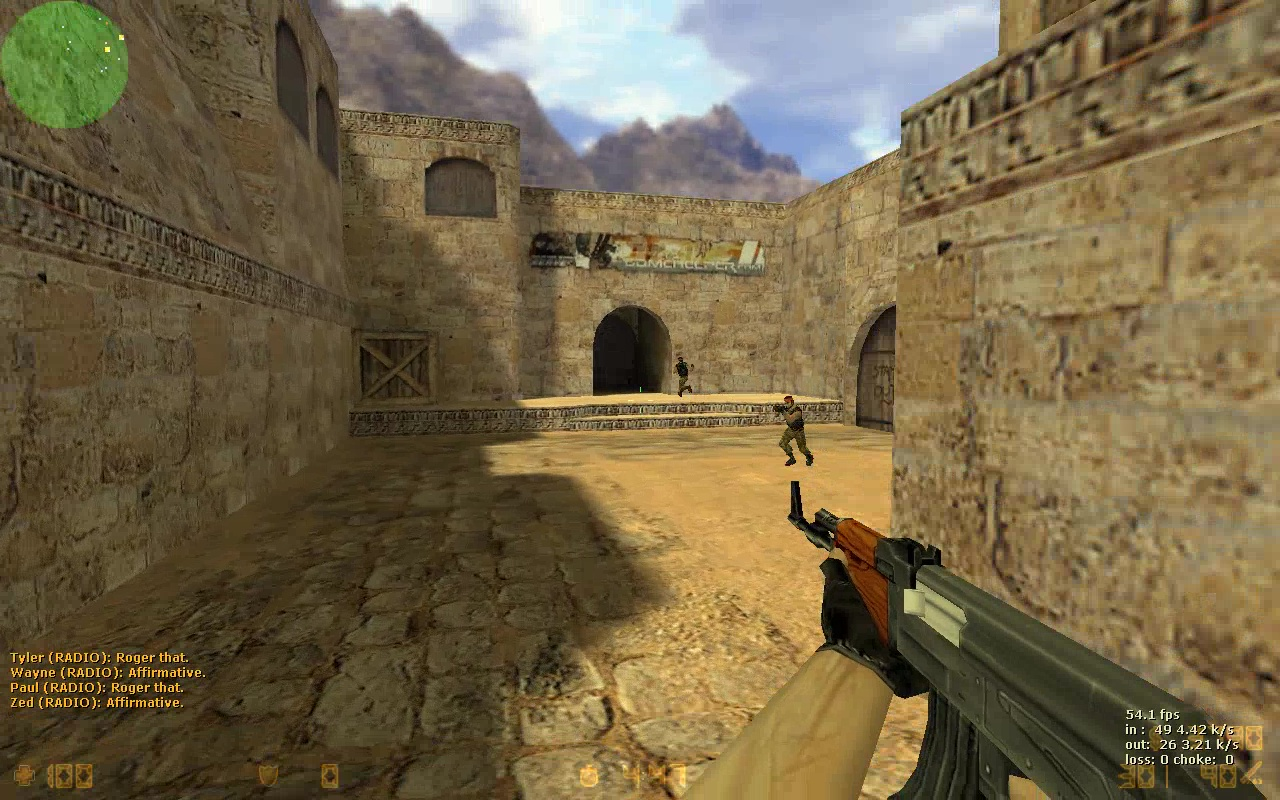terr1: (771, 395, 815, 467), (671, 356, 695, 399)
